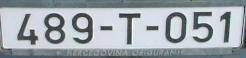-: (98, 24, 115, 32), (146, 26, 161, 31)
0: (165, 12, 187, 43)
1: (220, 11, 231, 45)
4: (16, 14, 39, 46)
5: (193, 11, 213, 43)
8: (43, 14, 66, 44)
9: (71, 13, 94, 44)
T: (118, 12, 141, 46)
